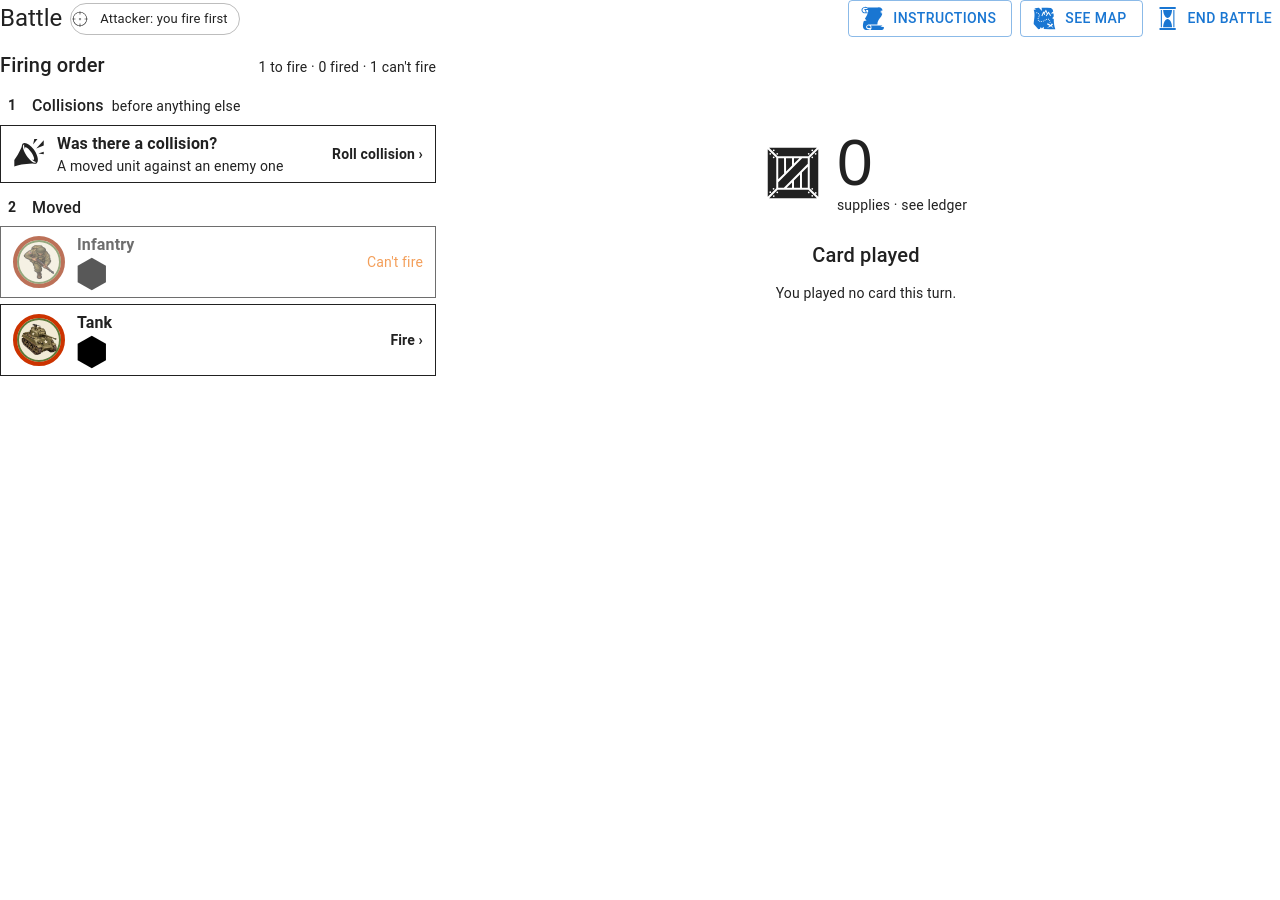
Test case: Collisions in the battle phase › speaks English when the player picked it
Step 1. Click the button "Was there a collision?" → (218, 154), box [0, 125, 436, 183]
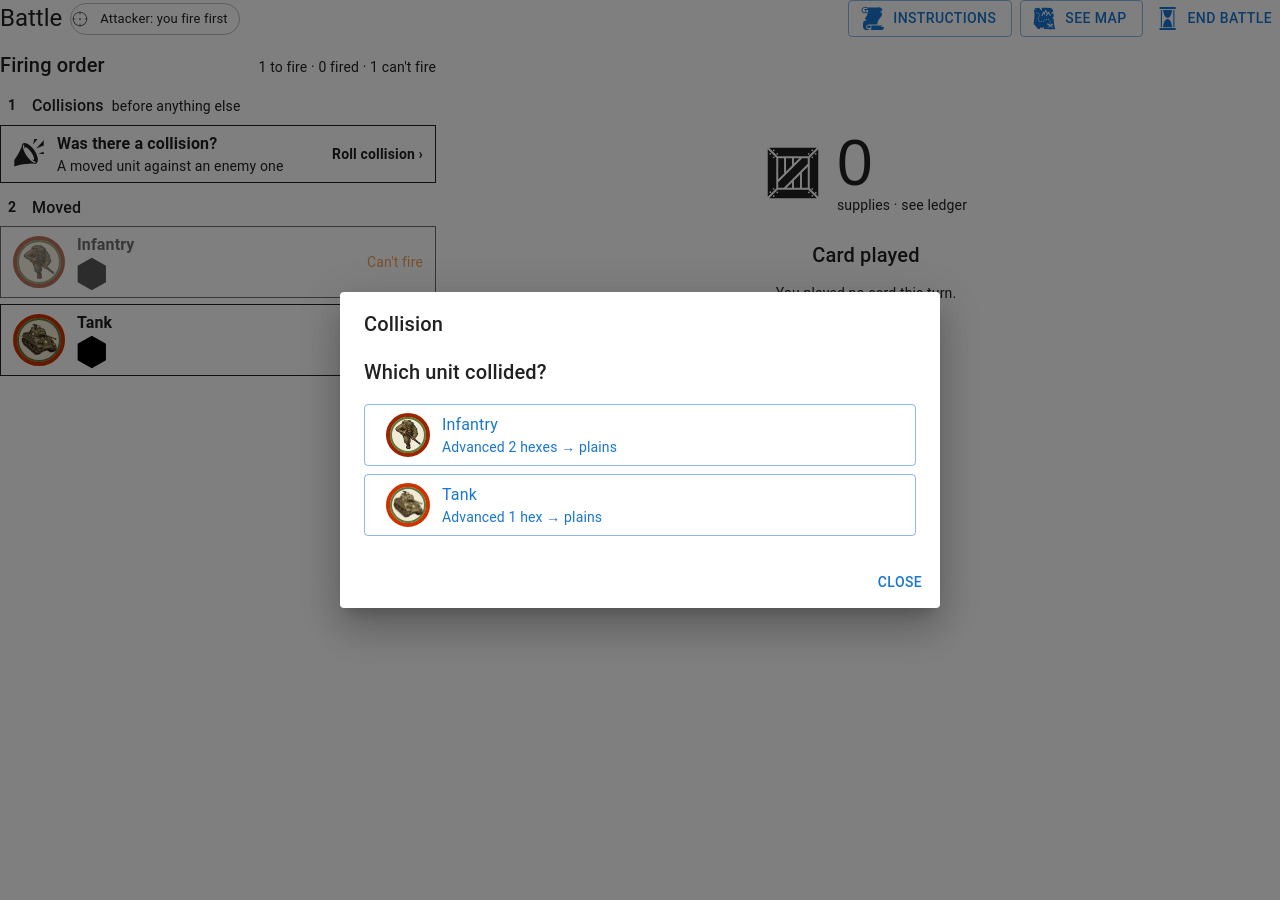
Expected: the heading "Which unit collided?" is shown, [364, 360, 547, 384]
Expected: the button "Close" is shown, [868, 564, 932, 600]
